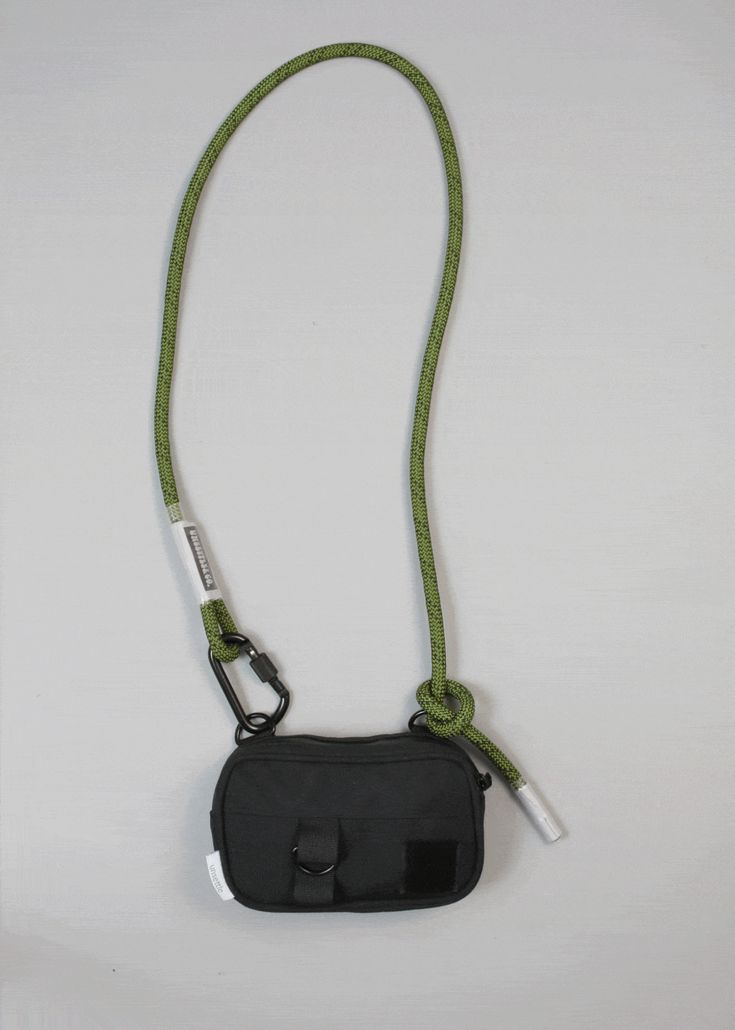nylon: (208, 734, 492, 915)
